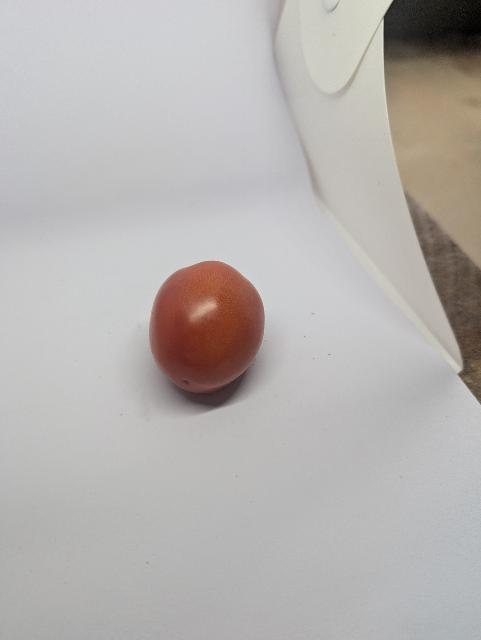red: (137, 248, 273, 414)
